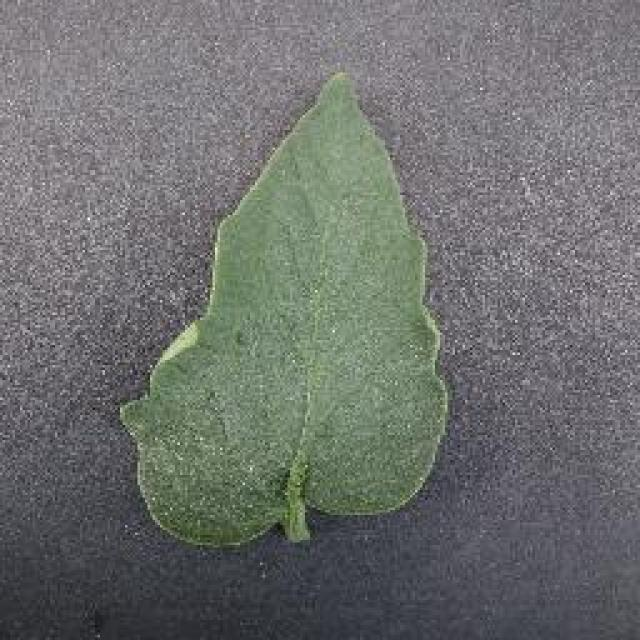Tomato healthy leaf: (122, 70, 452, 550)
